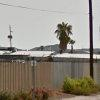Palm tree: (52, 17, 74, 54)
